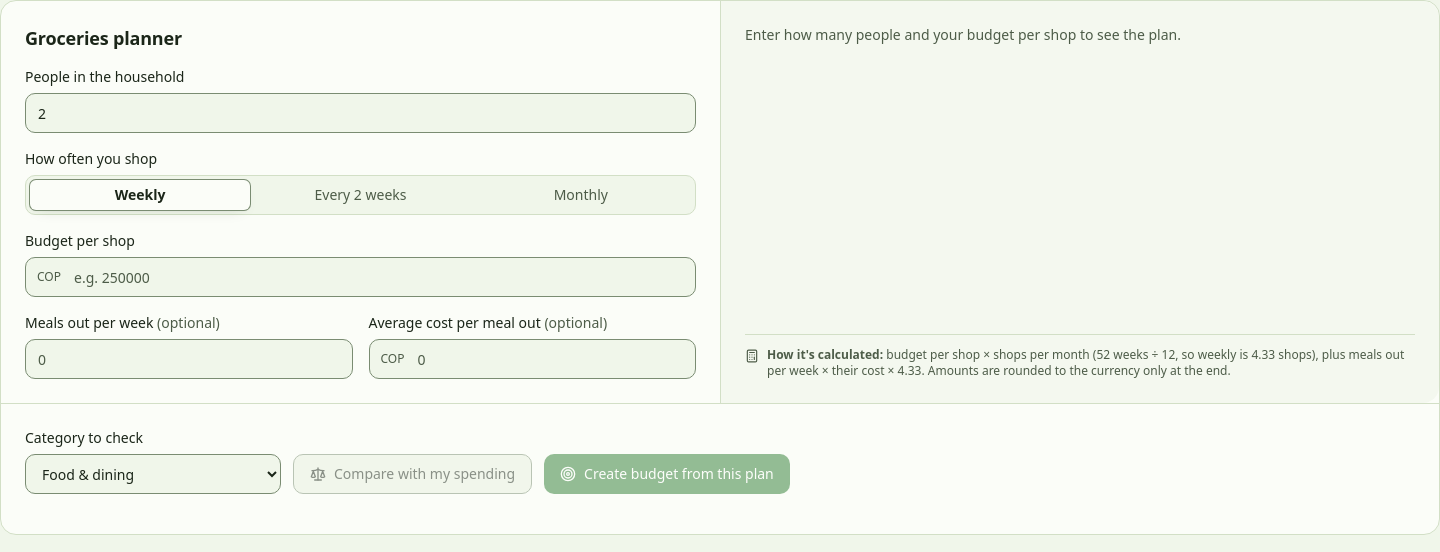
Test: GroceriesCalculator › shows the live plan and picks a food category by default
The image size is (1440, 552).
Type "250000" into the number field labelled "Budget per shop" at point(360, 277), box [25,257,696,297]
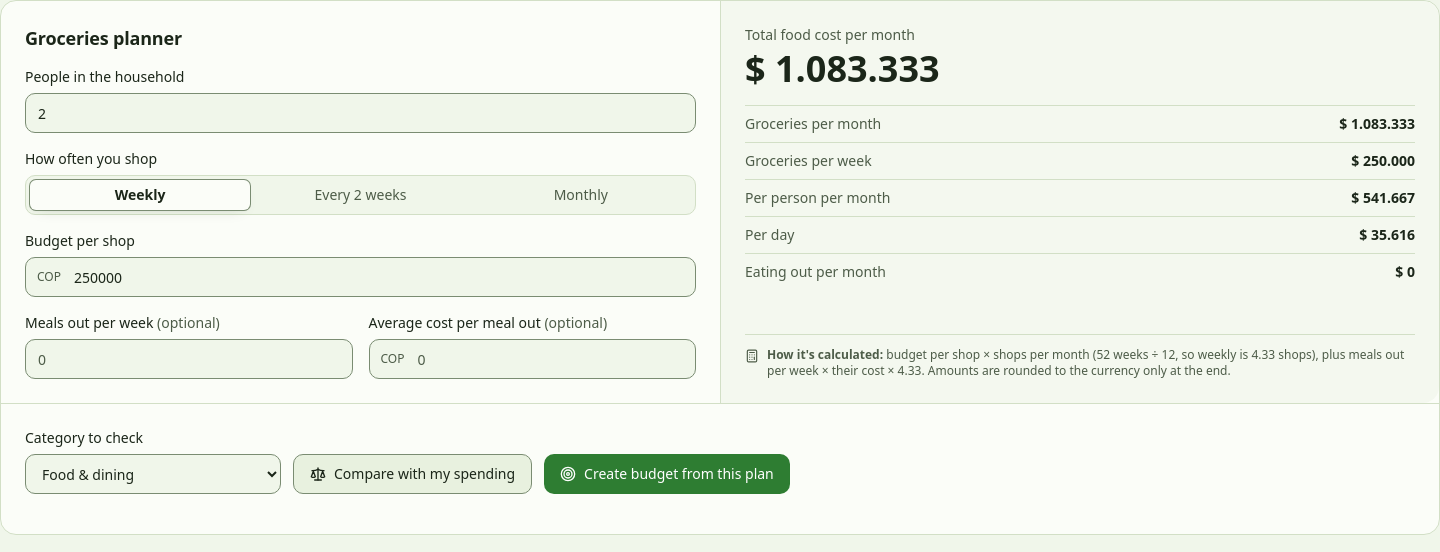
expect the dropdown labelled "Category to check" shows "Food & dining": met, box [25,454,281,494]
expect the 1st text "$ 1.083.333" is shown: met, box [745,44,940,93]
